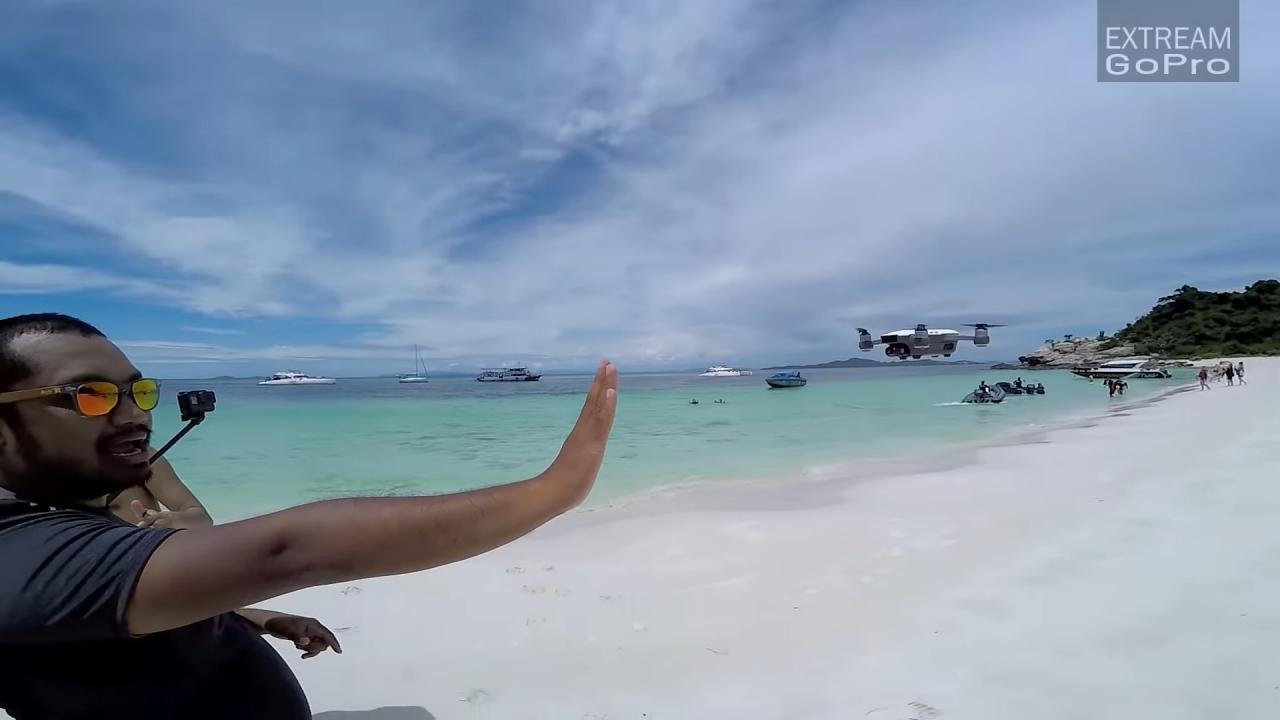Drone: (840, 303, 1020, 373)
